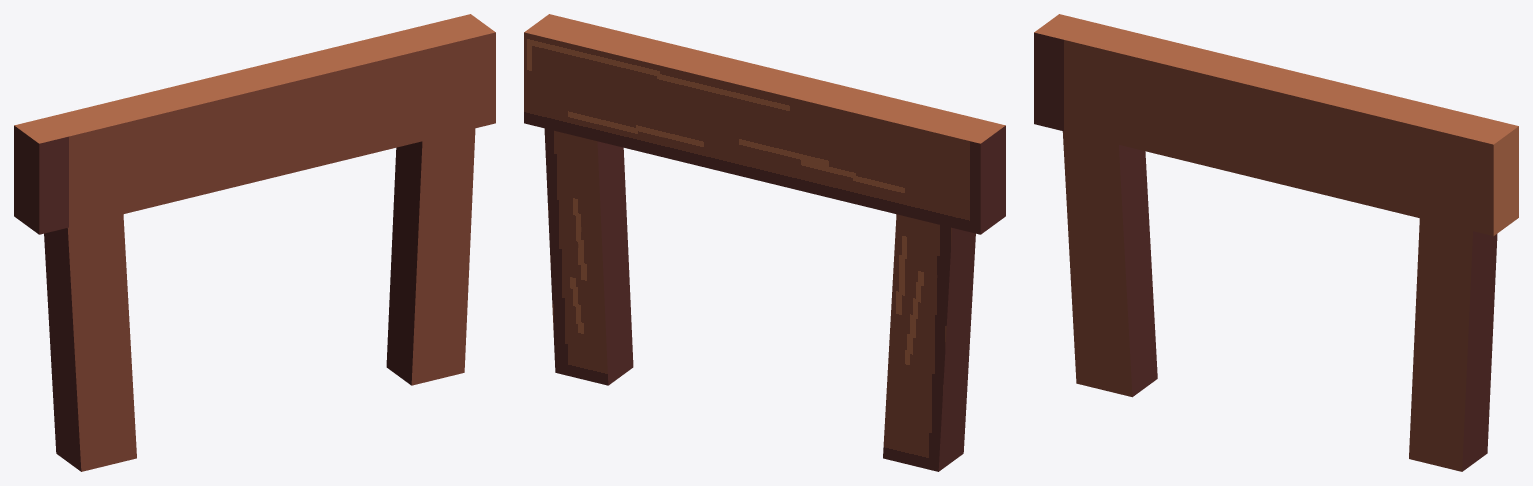
Rendered from StarspireSign.gltf.
3 renders of one model, left to right at view 1: azimuth 30°, elevation 25°; view 2: azimuth 150°, elevation 25°; view 3: azimuth 330°, elevation 25°, orthographic.
Visible parts, largest first — view 1: mesh; view 2: mesh; view 3: mesh.
Part boxes in pixels (x1,y1,x2,y2): mesh: (14,14,495,471); mesh: (524,14,1005,471); mesh: (1034,14,1518,471).
Bounding box in the file's own units: 10.5 × 7.44 × 1.
1 material, 1 textured.
